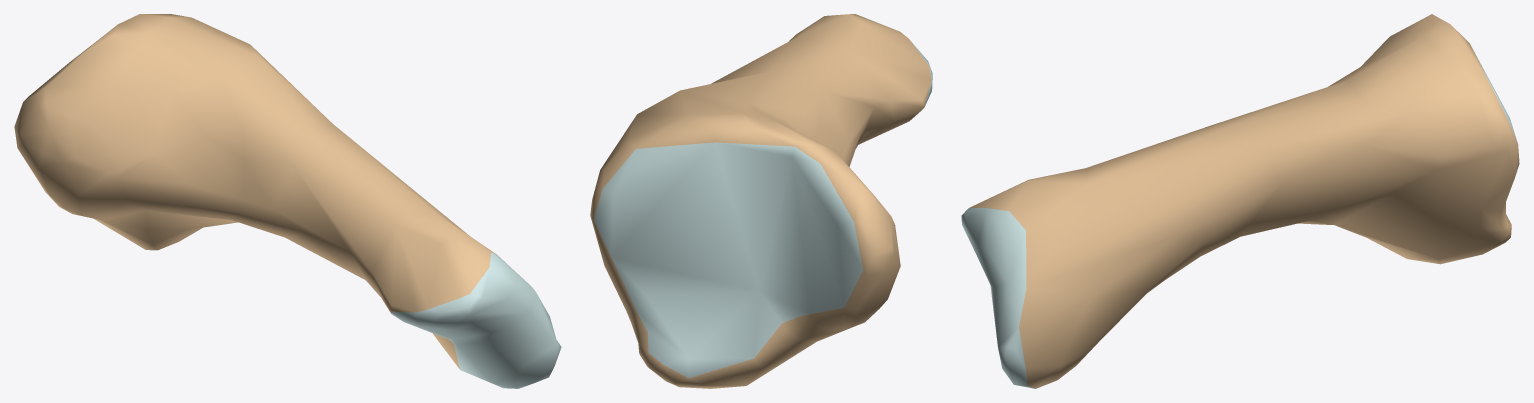
The model's file is Phalanx_proximal_4th_finger_foot_left.glb.
The picture shows the model from 3 angles, left to right: view 1: azimuth 30°, elevation 25°; view 2: azimuth 150°, elevation 25°; view 3: azimuth 270°, elevation 25°; orthographic projection. The views are drawn at different scales.
Visible parts, largest first — view 1: Proximal_phalanx_of_4th_finger_of_foot.l_Generated_Mesh_From; view 2: Proximal_phalanx_of_4th_finger_of_foot.l_Generated_Mesh_From; view 3: Proximal_phalanx_of_4th_finger_of_foot.l_Generated_Mesh_From.
Part boxes in pixels (x1=…): Proximal_phalanx_of_4th_finger_of_foot.l_Generated_Mesh_From: x1=14, y1=14, x2=561, y2=388; Proximal_phalanx_of_4th_finger_of_foot.l_Generated_Mesh_From: x1=590, y1=14, x2=932, y2=388; Proximal_phalanx_of_4th_finger_of_foot.l_Generated_Mesh_From: x1=961, y1=14, x2=1519, y2=388.
Size of the model in its own units: 0.0181 by 0.0138 by 0.026.
